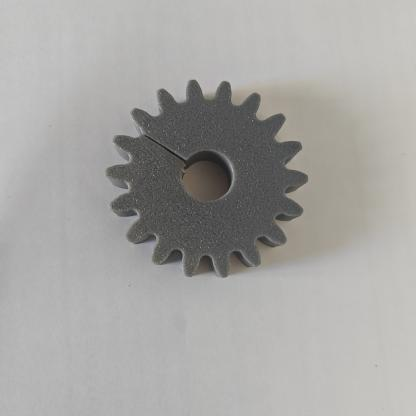defect: (104, 101, 216, 192)
gear: (91, 71, 314, 281)
